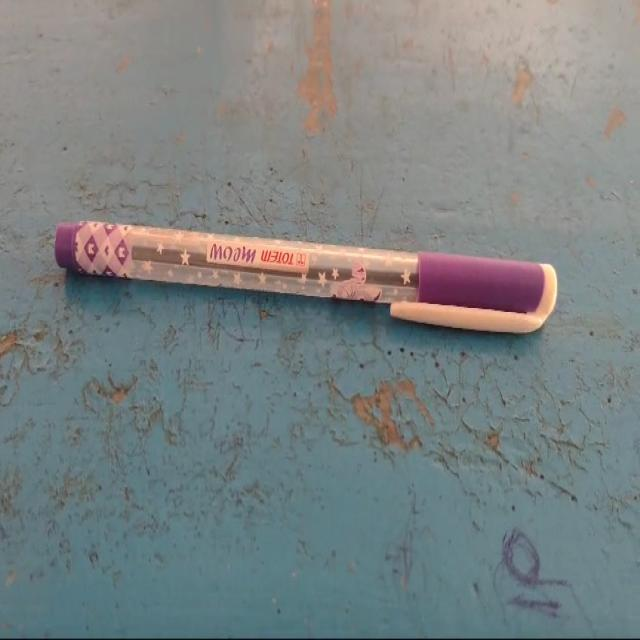pen: (29, 152, 588, 429)
